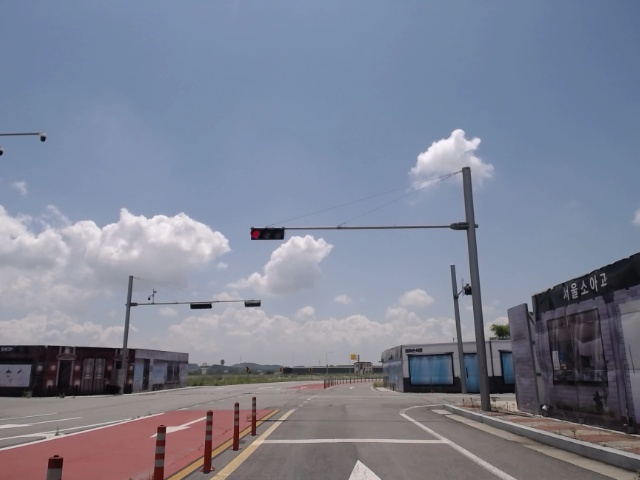red_3: (250, 227, 286, 241)
